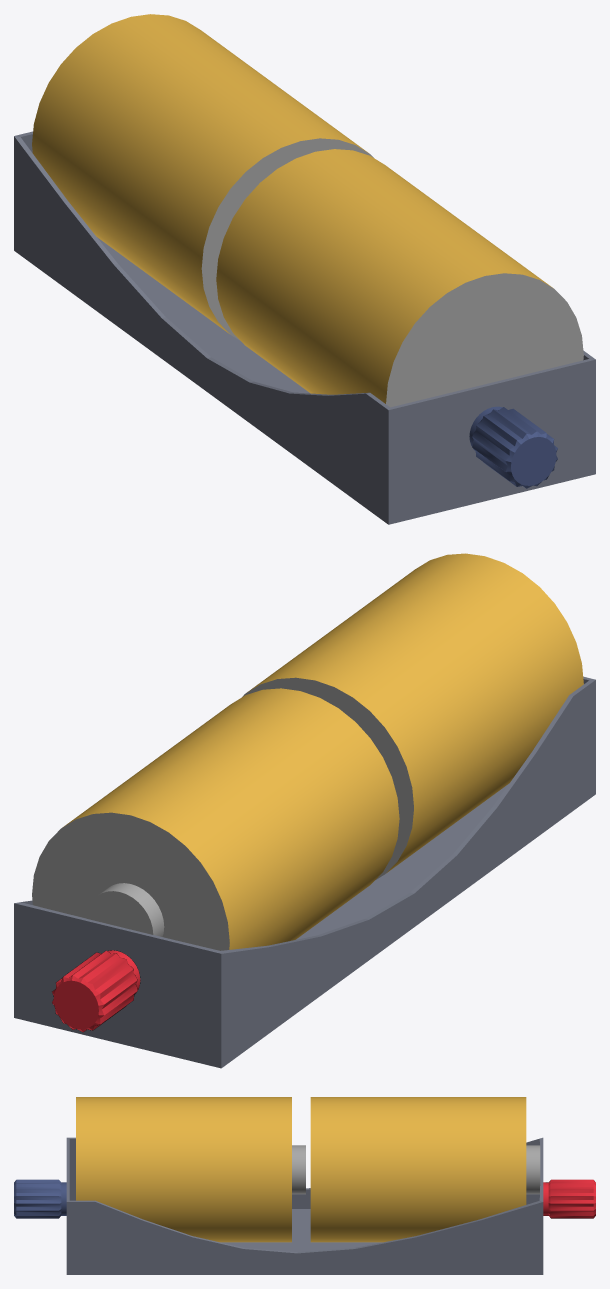
3 renders of one model, top to bottom at view 1: azimuth 30°, elevation 25°; view 2: azimuth 150°, elevation 25°; view 3: azimuth 270°, elevation 25°, orthographic. The views are drawn at different scales.
Parts seen in each view (by area): view 1: 柱体.024, 立方体.002, 柱体.002, 柱体.018; view 2: 柱体.002, 立方体.002, 柱体.024, 柱体.003; view 3: 柱体.002, 柱体.024, 立方体.002, 柱体.003, 柱体.018.
Part boxes in pixels (box(x1,y1,x2,y2)): 柱体.024: box(216, 149, 583, 407); 立方体.002: box(14, 131, 595, 524); 柱体.002: box(32, 14, 373, 340); 柱体.018: box(469, 406, 557, 488); 柱体.002: box(32, 688, 399, 950); 立方体.002: box(14, 676, 595, 1068); 柱体.024: box(242, 553, 583, 879); 柱体.003: box(52, 950, 140, 1032); 柱体.002: box(310, 1097, 540, 1242); 柱体.024: box(76, 1097, 305, 1242); 立方体.002: box(66, 1137, 543, 1274); 柱体.003: box(543, 1179, 595, 1218); 柱体.018: box(14, 1179, 66, 1218).
Bounding box in the file's own units: 0.4927 × 0.4952 × 1.88.
